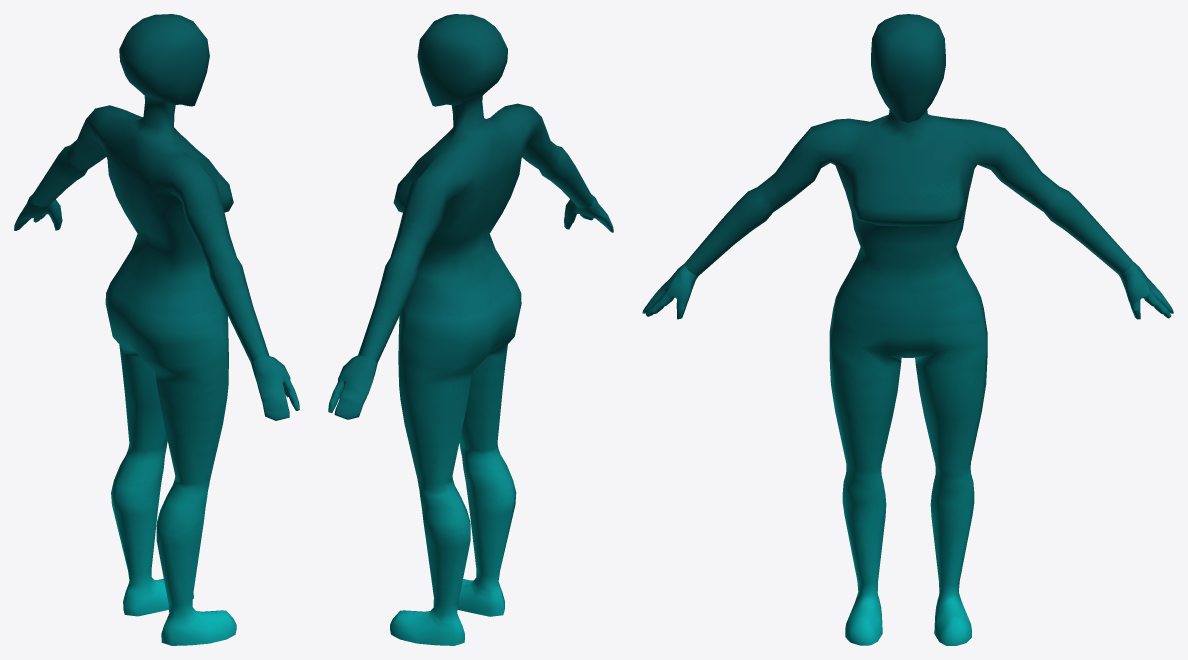
Rendered from femal_character.glb.
3 renders of one model, left to right at view 1: azimuth 30°, elevation 25°; view 2: azimuth 150°, elevation 25°; view 3: azimuth 270°, elevation 25°, orthographic.
Visible parts, largest first — view 1: mesh_char_063.003; view 2: mesh_char_063.003; view 3: mesh_char_063.003.
Boxes of the visible parts, x1,y1,x2,y2 form: mesh_char_063.003: [14, 14, 299, 645]; mesh_char_063.003: [328, 14, 613, 645]; mesh_char_063.003: [642, 14, 1173, 645].
Bounding box in the file's own units: 0.6713 × 4.04 × 3.22.
Materials: 1 (1 with a texture image).
